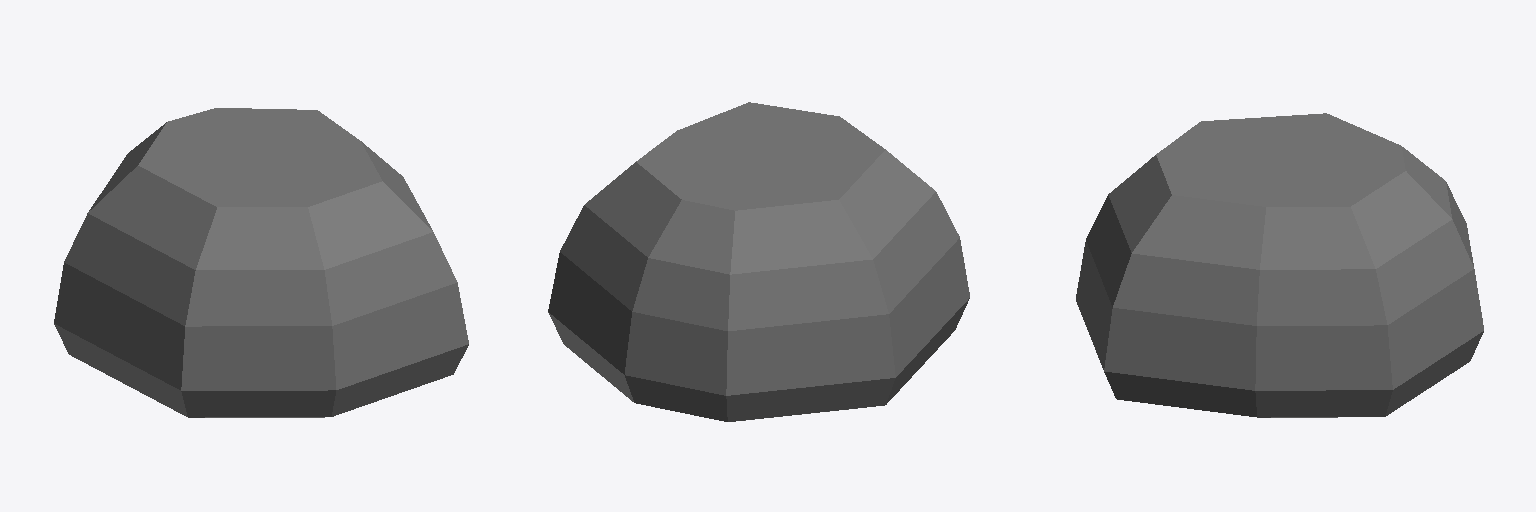
Rendered from rock4.obj.
The picture shows the model from 3 angles: view 1: azimuth 30°, elevation 25°; view 2: azimuth 150°, elevation 25°; view 3: azimuth 270°, elevation 25°; orthographic projection.
Parts seen in each view (by area): view 1: rock4:polySurface1; view 2: rock4:polySurface1; view 3: rock4:polySurface1.
Part boxes in pixels (x1,y1,x2,y2): rock4:polySurface1: (54,108,468,417); rock4:polySurface1: (548,102,969,421); rock4:polySurface1: (1076,113,1483,417).
Bounding box in the file's own units: 58.42 × 32.67 × 62.68.